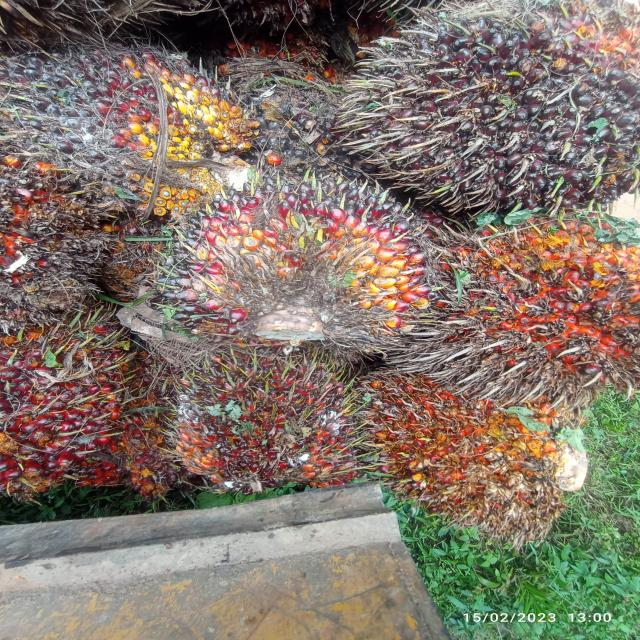fraksi 00: (141, 154, 455, 379), (340, 0, 640, 207), (0, 24, 305, 212)
fraksi 3: (136, 332, 391, 532), (0, 310, 157, 504)
fraksi 4: (318, 351, 604, 570), (431, 206, 640, 403)
